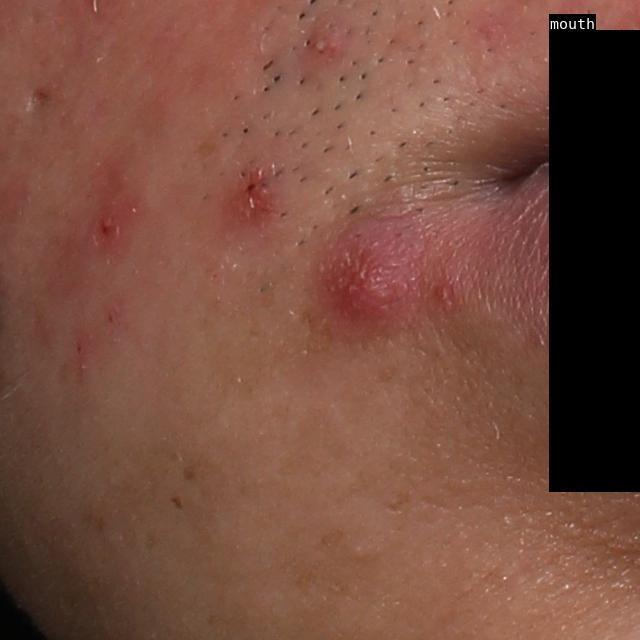atrophic_scar: (29, 87, 53, 112)
papule: (312, 231, 413, 345), (218, 163, 280, 223), (307, 25, 344, 65)
